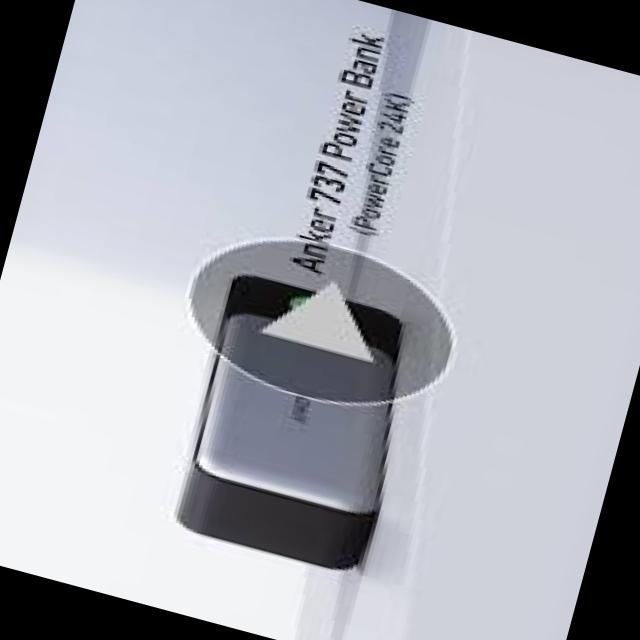power_bank: (164, 264, 424, 574)
